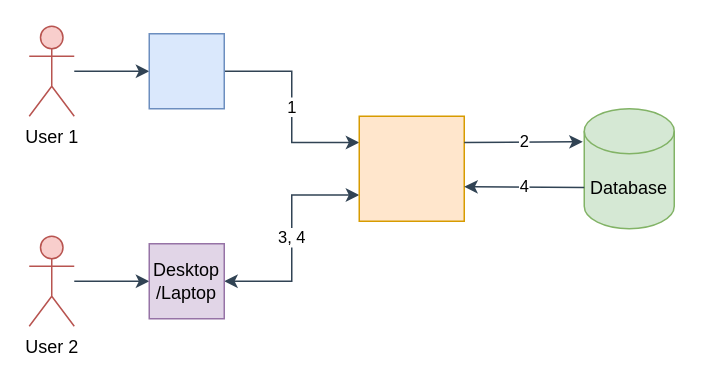
This 701x384 diagram has some shape labels left out. The centre of each missing label's shape, as x and y in pixels:
"Mobile Phone" goes at point 186,70.
"Server" goes at point 411,168.
